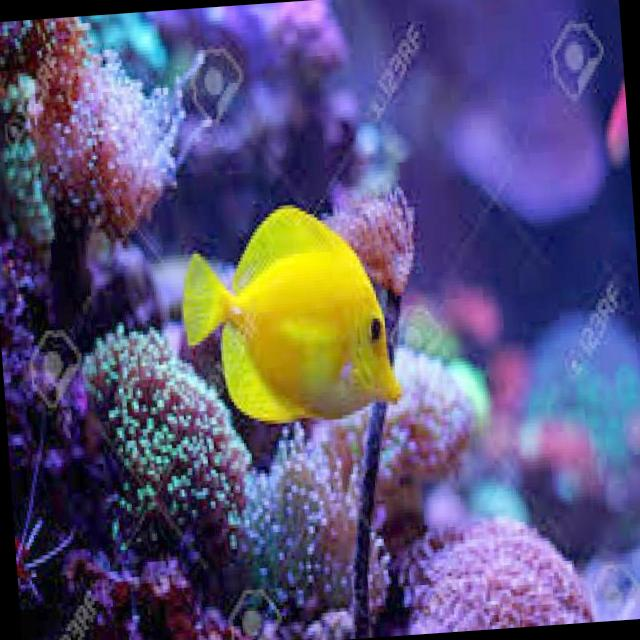TangFish: (174, 192, 405, 429)
